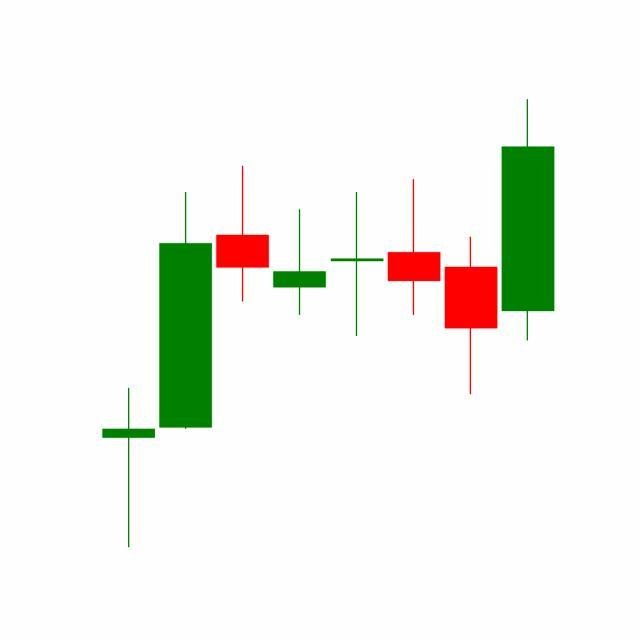Three Outside Up-Down: (328, 177, 500, 398)
